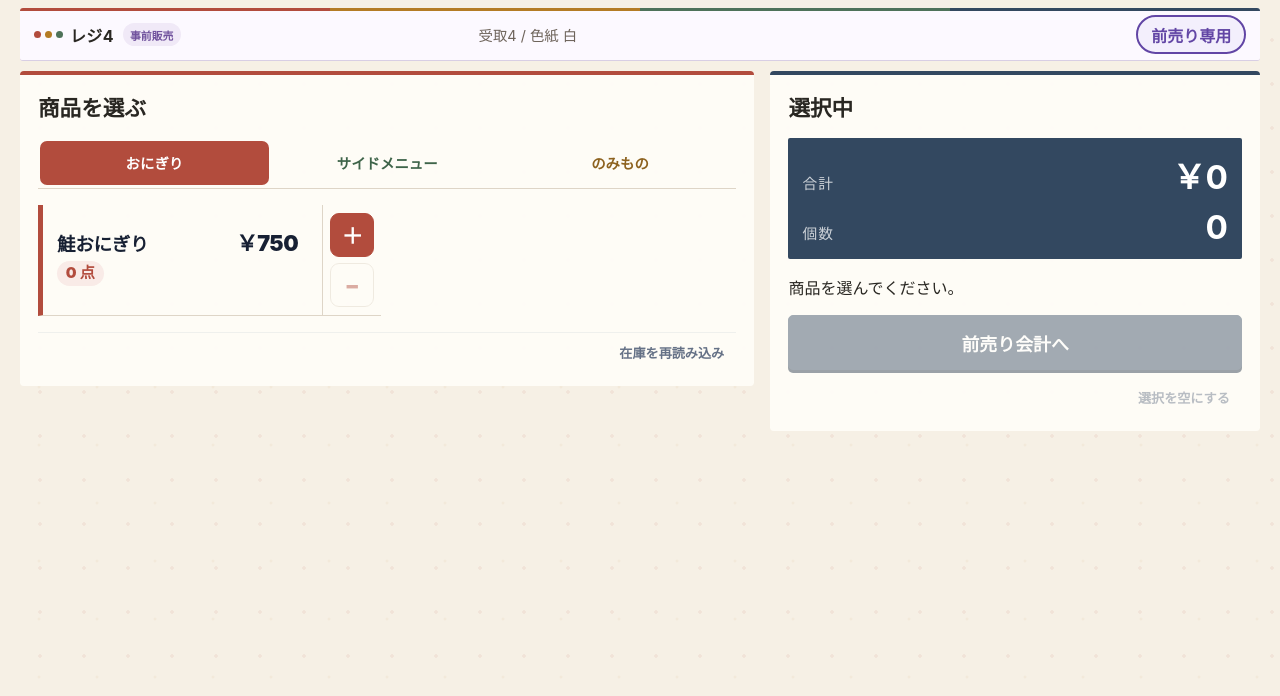
Test: RegisterPage › 事前販売では前日に現金を受け取り、専用IDを発行する
Expected: the text "前売り専用" is shown, left=1136, top=15, right=1246, bottom=54
Expected: the text "鮭おにぎり" is shown, left=57, top=234, right=148, bottom=255
Step 1. Click the button with aria-label "鮭おにぎり を 1 個追加する" → (103, 244), box left=43, top=205, right=312, bottom=315
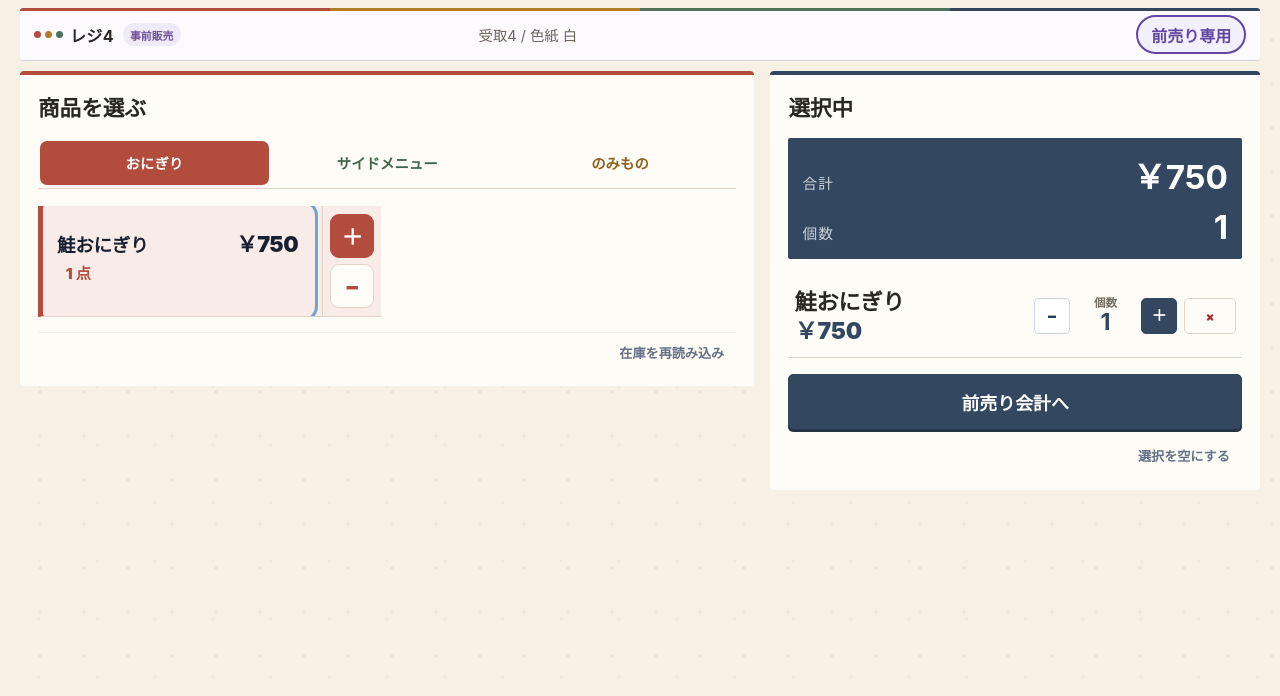
Step 2. Click the button "前売り会計へ" → (1015, 402), box left=788, top=374, right=1242, bottom=429
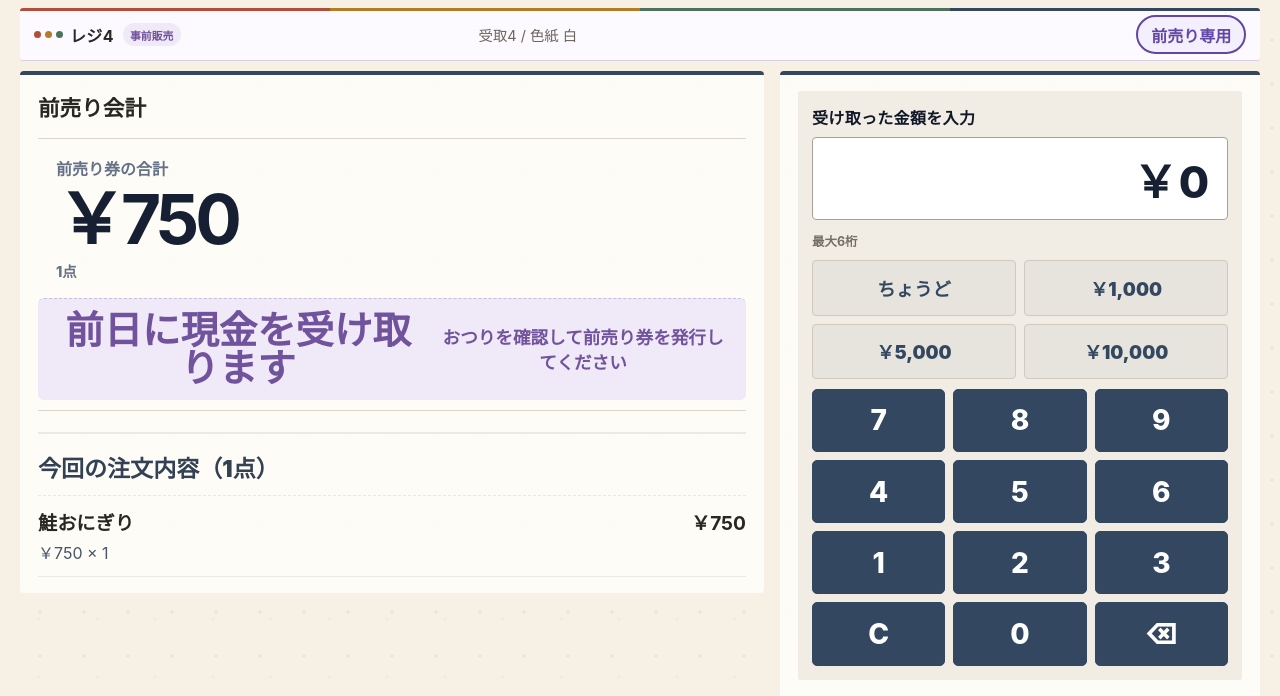
Expected: the field named "預かり金額" is shown, left=812, top=137, right=1228, bottom=220
Expected: the text "今回の注文内容（1点）" is shown, left=38, top=455, right=279, bottom=483
Expected: the text "前日に現金を受け取ります" is shown, left=54, top=311, right=422, bottom=388
Step 3. Click the button "ちょうど" → (914, 288), box left=812, top=260, right=1016, bottom=316
(page scrolled)
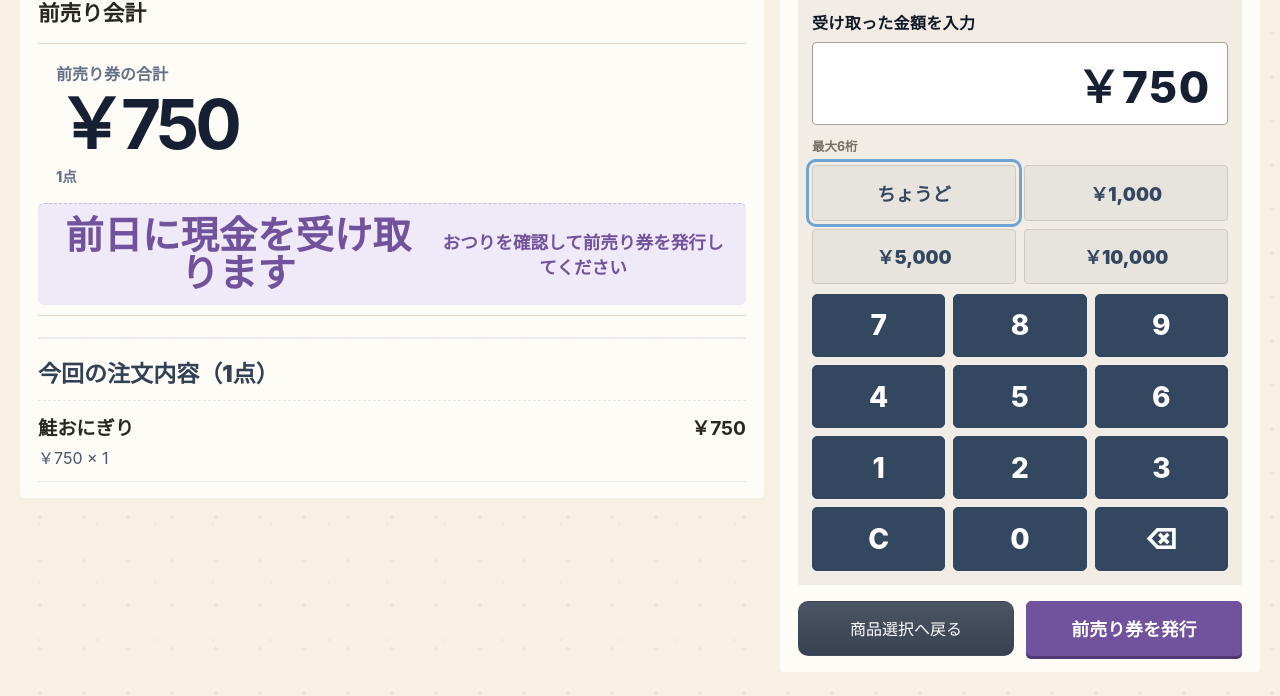
Expected: the button "前売り券を発行" is enabled, left=1026, top=600, right=1242, bottom=656
